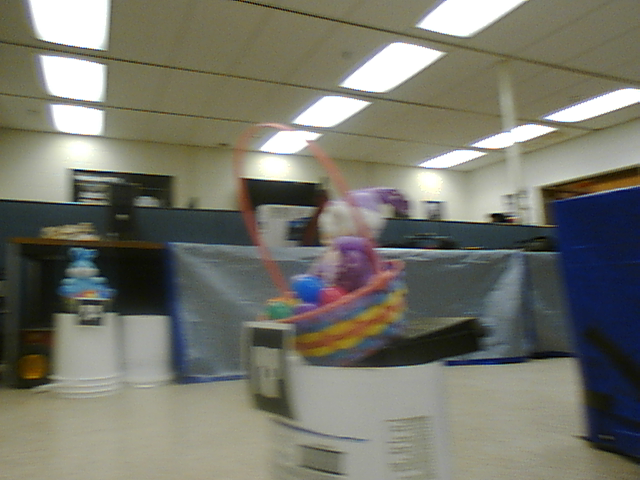bunny: (227, 118, 421, 368), (59, 239, 119, 325)
